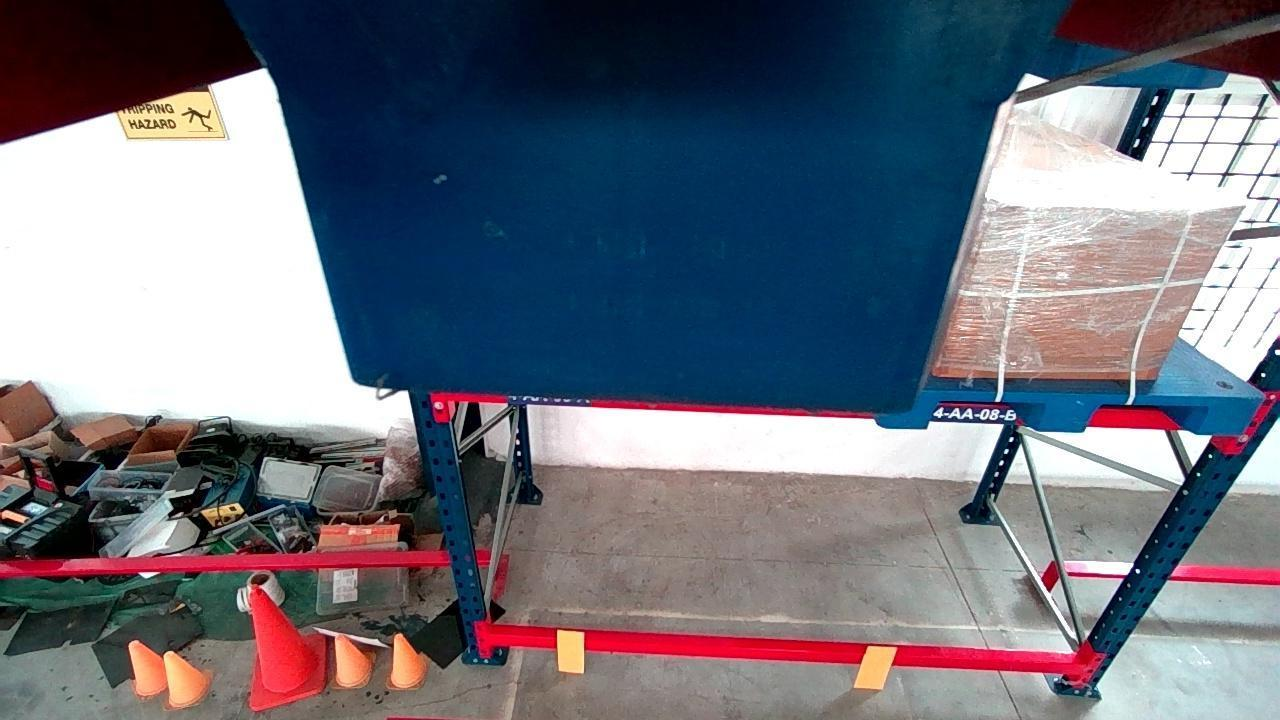h_rack: (487, 630, 1078, 674)
orange_strip: (853, 645, 897, 690), (559, 630, 582, 670)
small_pallet: (889, 388, 1262, 441)
